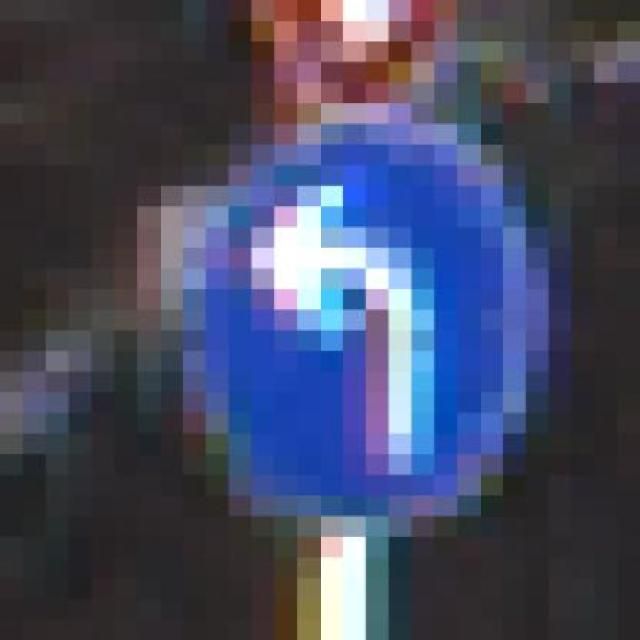Turn left ahead: (159, 103, 595, 537)
